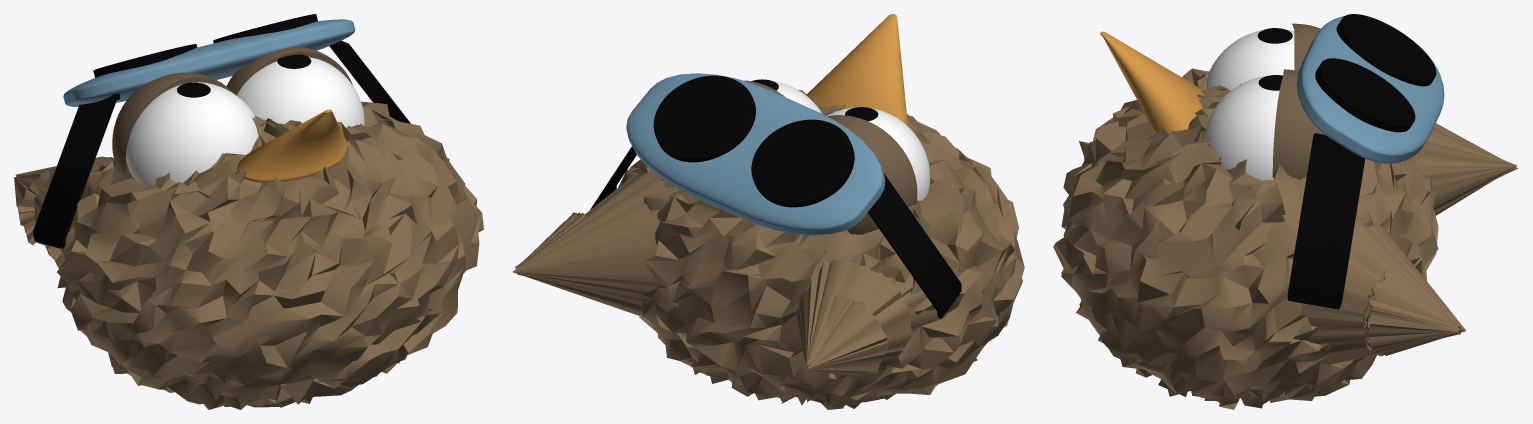
The model's file is kont.glb.
3 views of the same model, side by side, from view 1: azimuth 30°, elevation 25°; view 2: azimuth 150°, elevation 25°; view 3: azimuth 270°, elevation 25° (orthographic). The views are drawn at different scales.
Visible parts, largest first — view 1: Sphere, Sphere 1, Box, Box 1 (×2), Sphere 3, Cone 6, Sphere 7 - baked, Cone 3, Sphere 7 - baked 2, Cylinder 1, Cone, Cylinder (+1 smaller); view 2: Sphere, Box, Cone 2, Cylinder 1, Cylinder, Cone, Cone 6, Box 1 (×2), Cone 3, Sphere 7 - baked, Sphere 1, Cone 4 (+2 smaller); view 3: Sphere, Box 1, Box, Cone 2, Sphere 3, Cone 1, Cone 6, Cylinder, Cone, Cylinder 1, Sphere 1, Sphere 7 - baked 2 (+3 smaller).
Boxes of the visible parts, bbox=[...] form: Sphere: bbox=[57, 101, 483, 409]; Sphere 1: bbox=[125, 82, 258, 186]; Box: bbox=[63, 19, 355, 106]; Box 1 (×2): bbox=[33, 41, 410, 248]; Sphere 3: bbox=[237, 57, 364, 127]; Cone 6: bbox=[237, 109, 348, 182]; Sphere 7 - baked: bbox=[112, 72, 231, 172]; Cone 3: bbox=[14, 167, 56, 245]; Sphere 7 - baked 2: bbox=[226, 47, 352, 95]; Cylinder 1: bbox=[93, 44, 197, 77]; Cone: bbox=[15, 156, 113, 268]; Cylinder: bbox=[213, 14, 317, 43]; Sphere: bbox=[618, 90, 1024, 409]; Box: bbox=[626, 73, 885, 235]; Cone 2: bbox=[513, 165, 678, 315]; Cylinder 1: bbox=[751, 119, 854, 207]; Cylinder: bbox=[653, 75, 755, 162]; Cone: bbox=[795, 258, 911, 375]; Cone 6: bbox=[806, 14, 907, 124]; Box 1 (×2): bbox=[590, 146, 961, 318]; Cone 3: bbox=[807, 296, 888, 377]; Sphere 7 - baked: bbox=[827, 115, 917, 234]; Sphere 1: bbox=[826, 107, 930, 200]; Cone 4: bbox=[886, 273, 946, 331]; Sphere: bbox=[1053, 68, 1438, 409]; Box 1: bbox=[1287, 133, 1365, 309]; Box: bbox=[1296, 16, 1444, 163]; Cone 2: bbox=[1304, 209, 1466, 365]; Sphere 3: bbox=[1204, 76, 1279, 180]; Cone 1: bbox=[1363, 271, 1461, 356]; Cone 6: bbox=[1100, 31, 1204, 133]; Cylinder: bbox=[1315, 58, 1415, 132]; Cone: bbox=[1413, 132, 1517, 215]; Cylinder 1: bbox=[1336, 14, 1436, 86]; Sphere 1: bbox=[1206, 29, 1294, 90]; Sphere 7 - baked 2: bbox=[1272, 69, 1324, 179].
Bounding box in the file's own units: 0.2586 × 0.2064 × 0.2542.
